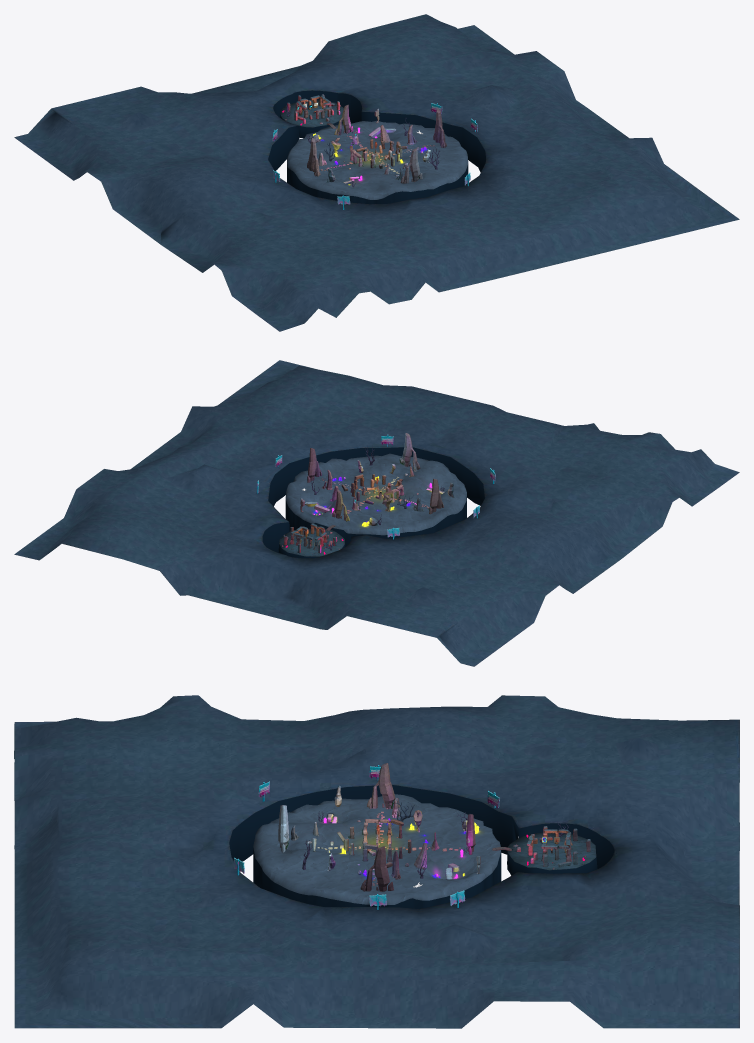
The model's file is world17.glb.
3 renders of one model, top to bottom at view 1: azimuth 30°, elevation 25°; view 2: azimuth 150°, elevation 25°; view 3: azimuth 270°, elevation 25°, orthographic. The views are drawn at different scales.
Visible parts, largest first — view 1: ground01, ground, epicrocks, galleryisland, randomrocks; view 2: ground01, ground, epicrocks, galleryisland, artcolumns, randomrocks; view 3: ground01, ground, galleryisland, epicrocks, mediumrocks, randomrocks, artcolumns.
Part boxes in pixels (<box>): ground01: <box>14,14,739,331</box>; ground: <box>287,120,468,204</box>; epicrocks: <box>307,104,446,183</box>; galleryisland: <box>280,100,343,138</box>; randomrocks: <box>311,108,402,184</box>; ground01: <box>14,360,739,666</box>; ground: <box>285,453,466,546</box>; epicrocks: <box>307,433,443,521</box>; galleryisland: <box>278,528,345,558</box>; artcolumns: <box>290,523,327,550</box>; randomrocks: <box>300,459,454,525</box>; ground01: <box>14,695,739,1028</box>; ground: <box>253,794,501,909</box>; galleryisland: <box>507,832,597,875</box>; epicrocks: <box>278,763,475,891</box>; mediumrocks: <box>311,810,427,879</box>; randomrocks: <box>291,785,480,880</box>; artcolumns: <box>526,829,572,861</box>.
Size of the model in its own units: 1452 by 205 by 1453.
44 materials, 31 textured.
